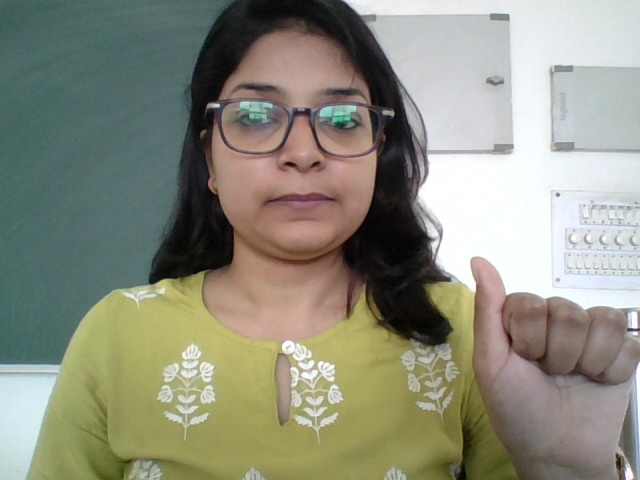A: (459, 248, 640, 477)
